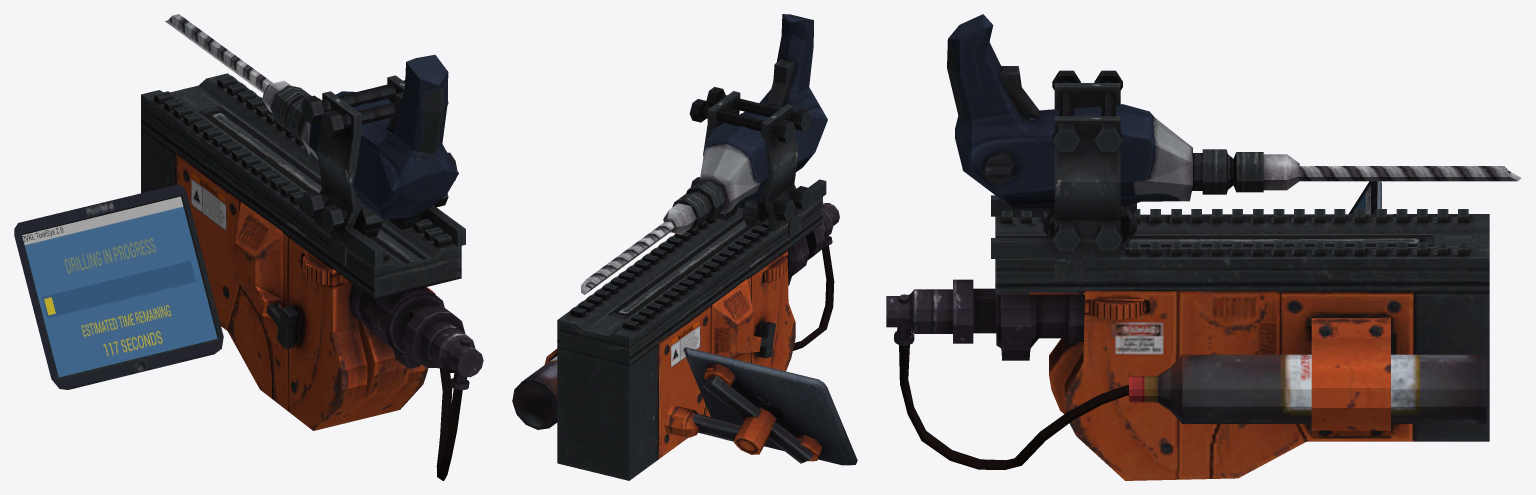
File: heist_drill.obj
3 views of the same model, side by side, from view 1: azimuth 30°, elevation 25°; view 2: azimuth 150°, elevation 25°; view 3: azimuth 270°, elevation 25° (orthographic). The views are drawn at different scales.
Parts seen in each view (by area): view 1: Small_Drill_1_0, Small_Drill_0_0; view 2: Small_Drill_1_0; view 3: Small_Drill_1_0.
Part boxes in pixels (x1,y1,x2,y2): Small_Drill_1_0: (14, 14, 483, 480); Small_Drill_0_0: (22, 196, 217, 377); Small_Drill_1_0: (512, 14, 857, 480); Small_Drill_1_0: (886, 14, 1521, 480).
Bounding box in the file's own units: 0.5599 × 0.6657 × 0.875.
